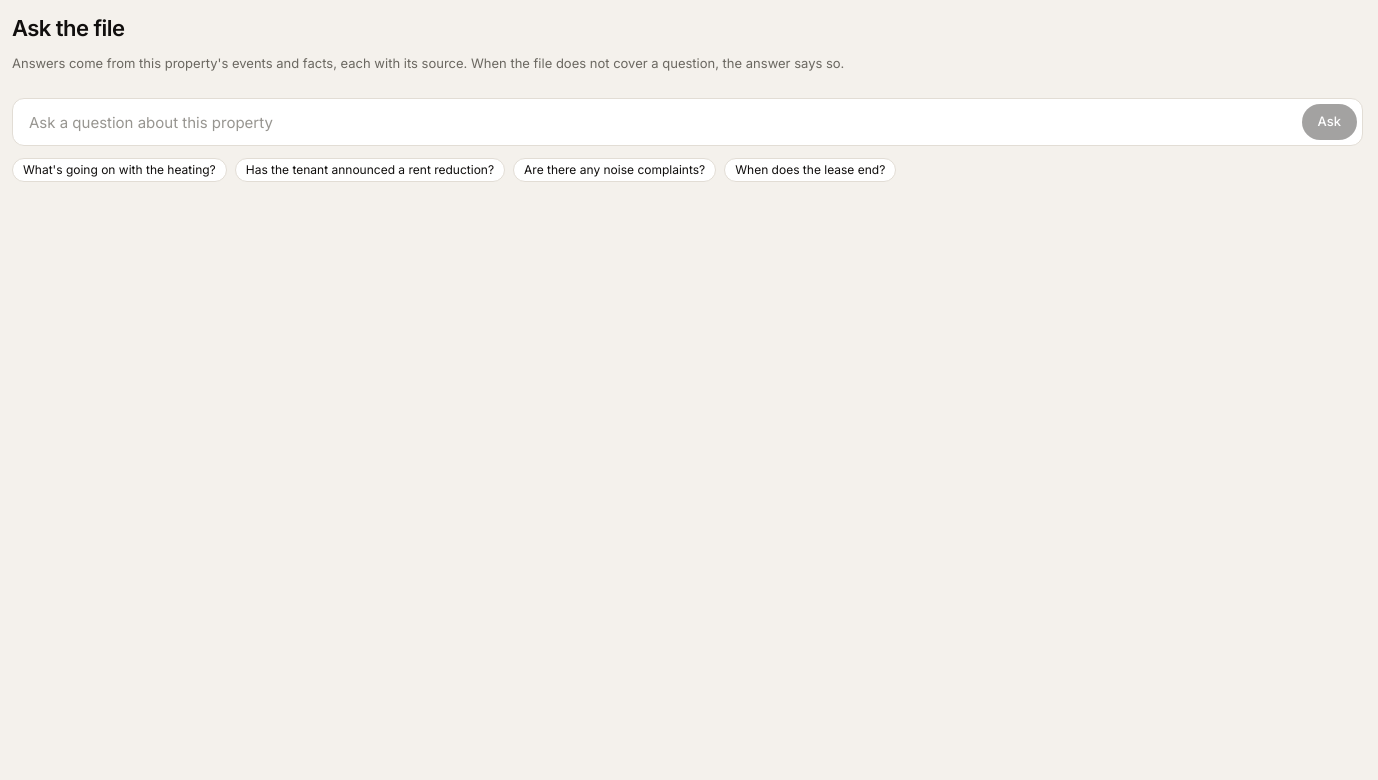
Scenario: AskPanel › says it does not know, with the partial context it found
In the field: (688, 122) [12,98,1363,146], type "What is going on?"
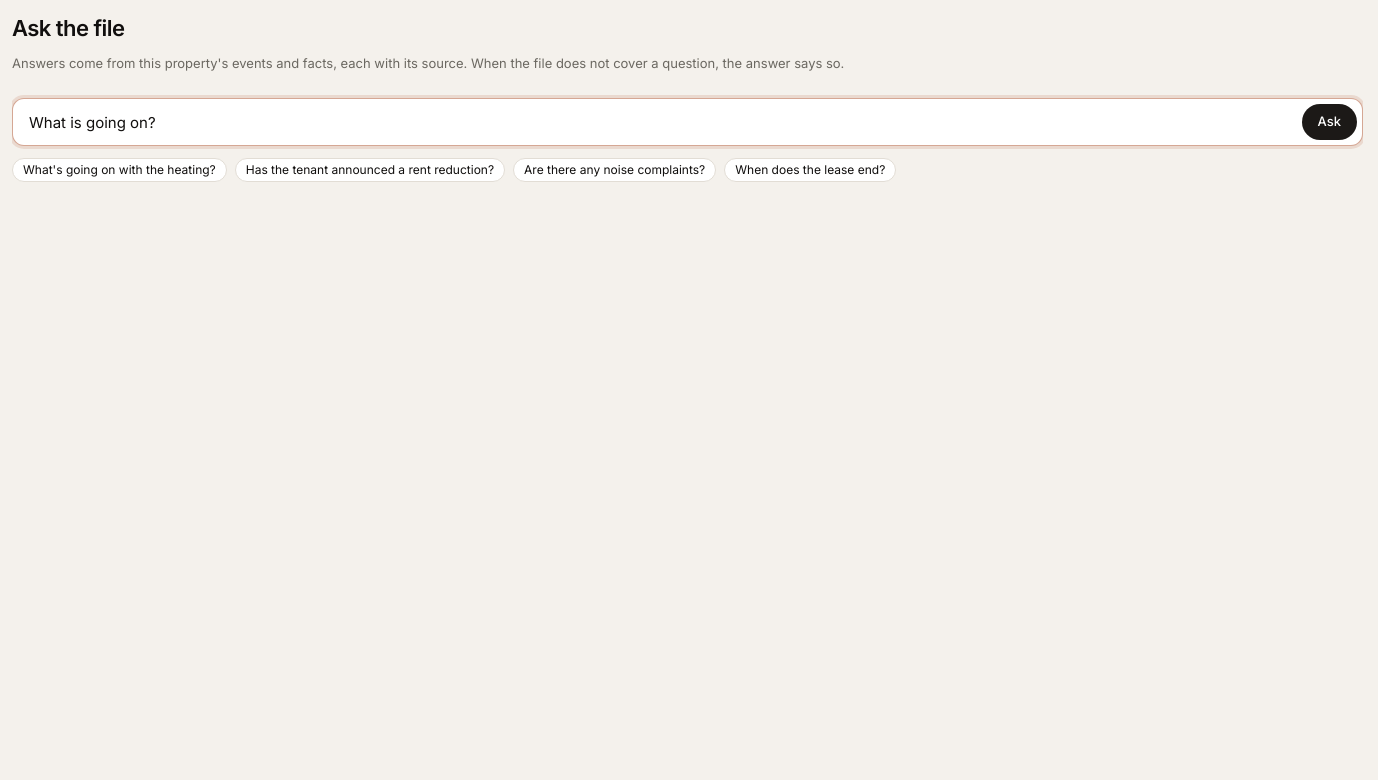
Click the button "Ask": click(1329, 122) [1302,104,1357,140]
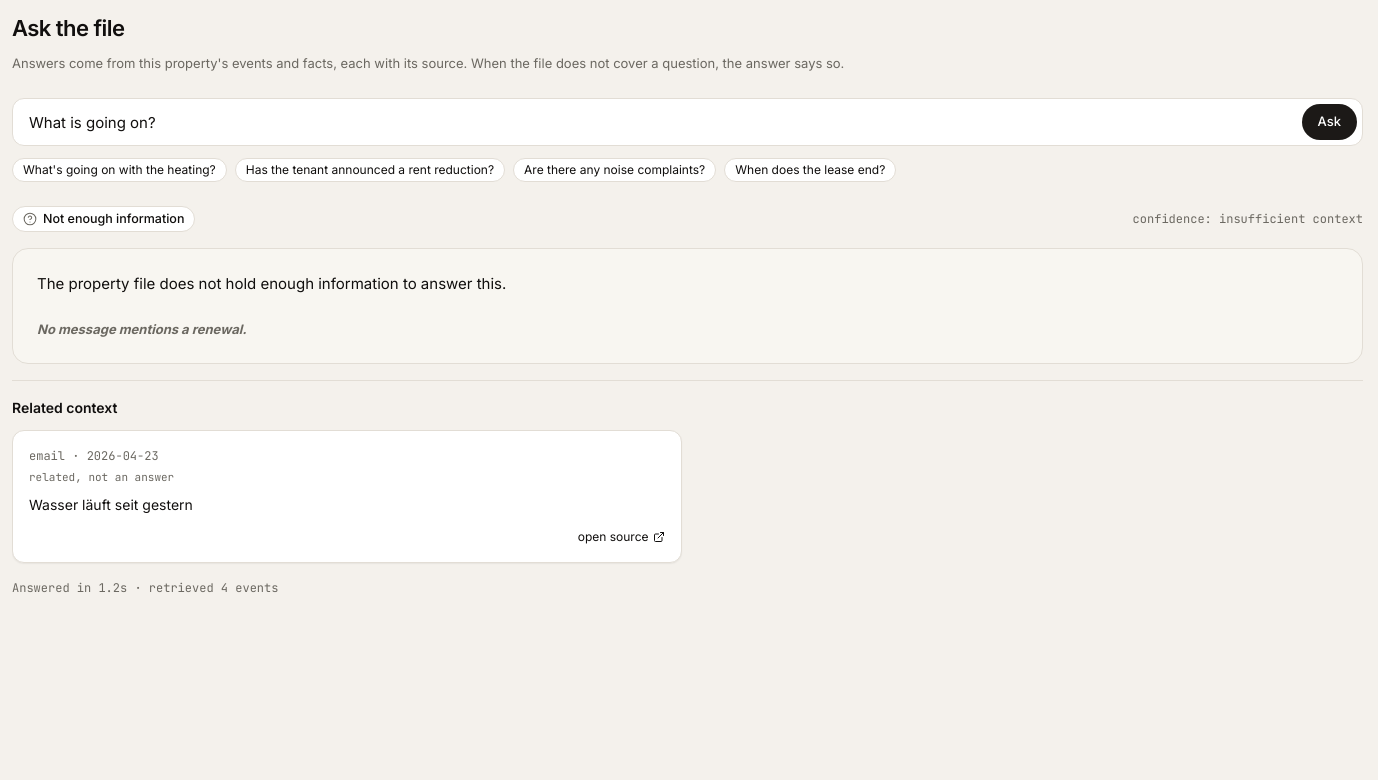
Expected: the text "Not enough information" is shown, [12,206,195,232]
Expected: the text "No message mentions a renewal." is shown, [37,321,247,337]
Expected: the text "Wasser läuft seit gestern" is shown, [29,496,193,513]
